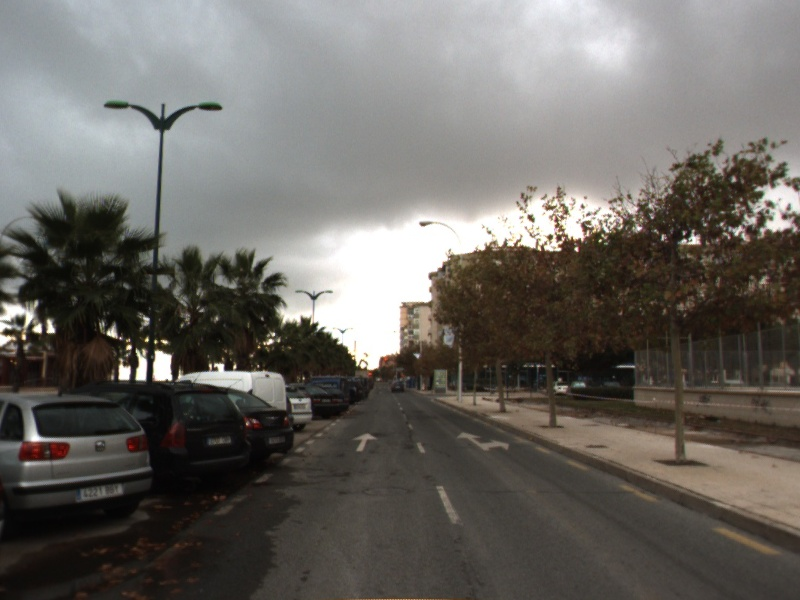STRAIGHT: (350, 431, 381, 453)
STRAIGHT_RIGHT: (455, 430, 511, 452)
